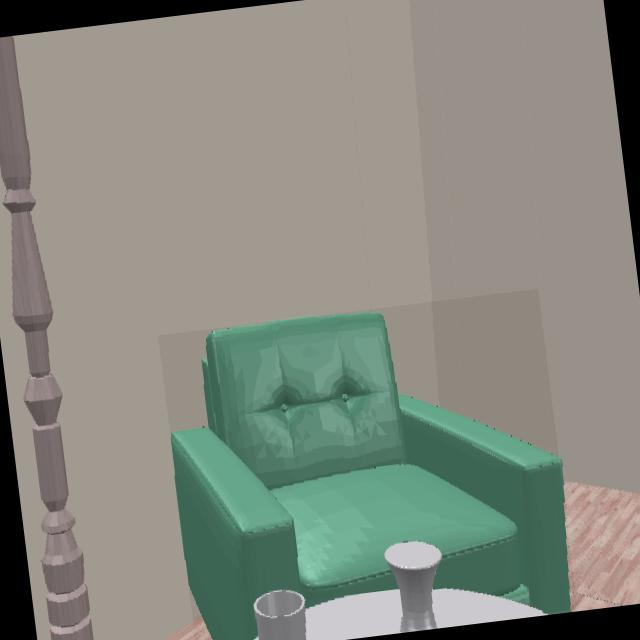sofa: (172, 313, 570, 640)
table: (306, 589, 402, 640), (433, 588, 542, 626)
